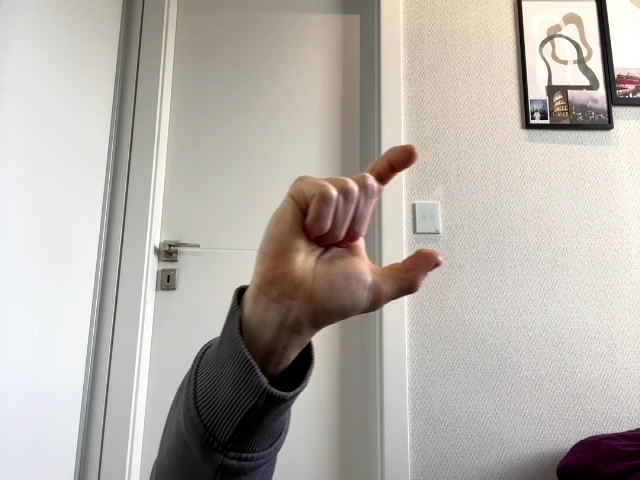C: (252, 145, 443, 326)
